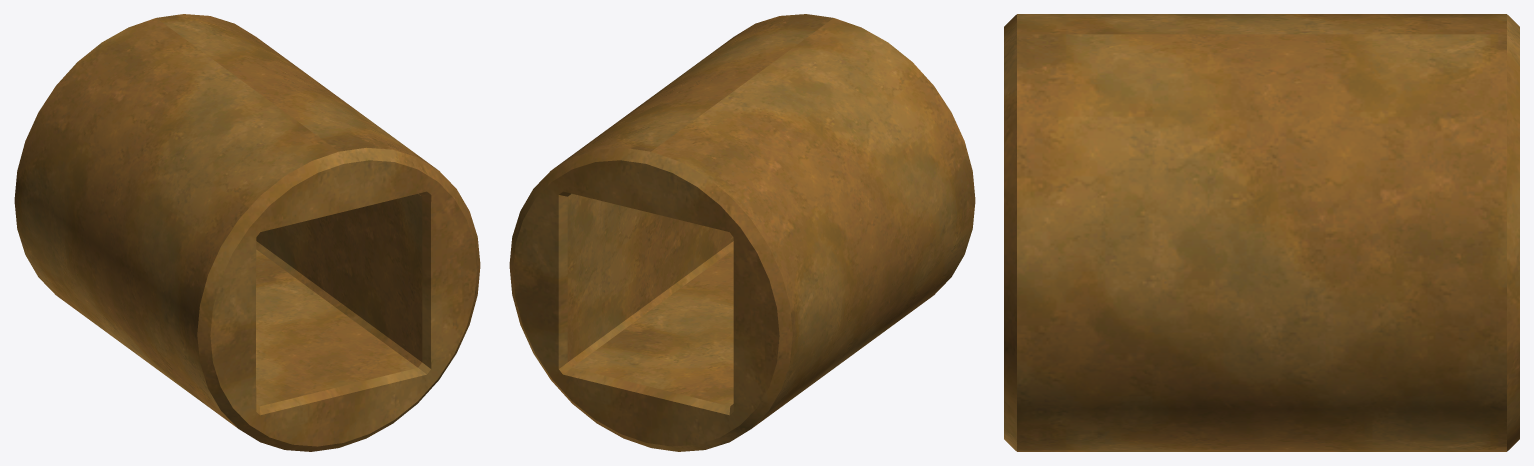
The model's file is Clock D Parts.obj.
3 views of the same model, side by side, from view 1: azimuth 30°, elevation 25°; view 2: azimuth 150°, elevation 25°; view 3: azimuth 270°, elevation 25° (orthographic). The views are drawn at different scales.
Parts seen in each view (by area): view 1: pCube295__Stone01_AI; view 2: pCube295__Stone01_AI; view 3: pCube295__Stone01_AI.
Boxes of the visible parts, <box> form: pCube295__Stone01_AI: <box>14,14,480,451</box>; pCube295__Stone01_AI: <box>509,14,975,451</box>; pCube295__Stone01_AI: <box>1004,14,1519,451</box>.
Bounding box in the file's own units: 3.4 × 3.4 × 4.
Materials: 1 (1 with a texture image).
